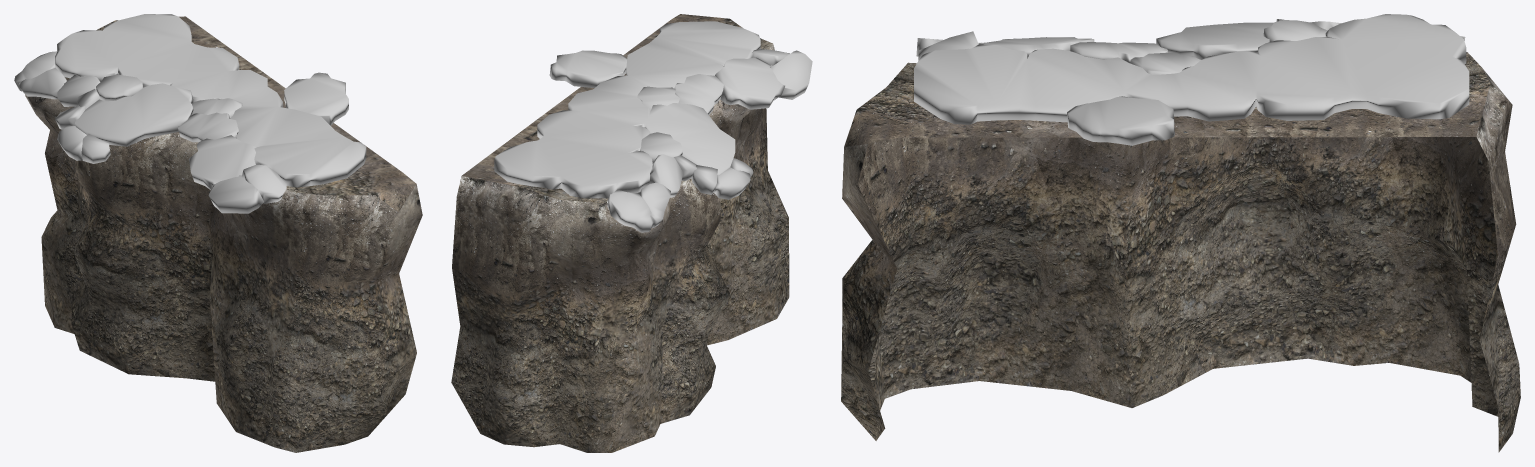
Rendered from Road_end3.fbx.
3 renders of one model, left to right at view 1: azimuth 30°, elevation 25°; view 2: azimuth 150°, elevation 25°; view 3: azimuth 270°, elevation 25°, orthographic. The views are drawn at different scales.
Parts seen in each view (by area): view 1: polySurface290; view 2: polySurface290; view 3: polySurface290.
Boxes of the visible parts, x1=… form: polySurface290: x1=14, y1=14, x2=422, y2=452; polySurface290: x1=451, y1=14, x2=812, y2=452; polySurface290: x1=841, y1=14, x2=1520, y2=452.
Bounding box in the file's own units: 3.79 × 4.14 × 7.01.
